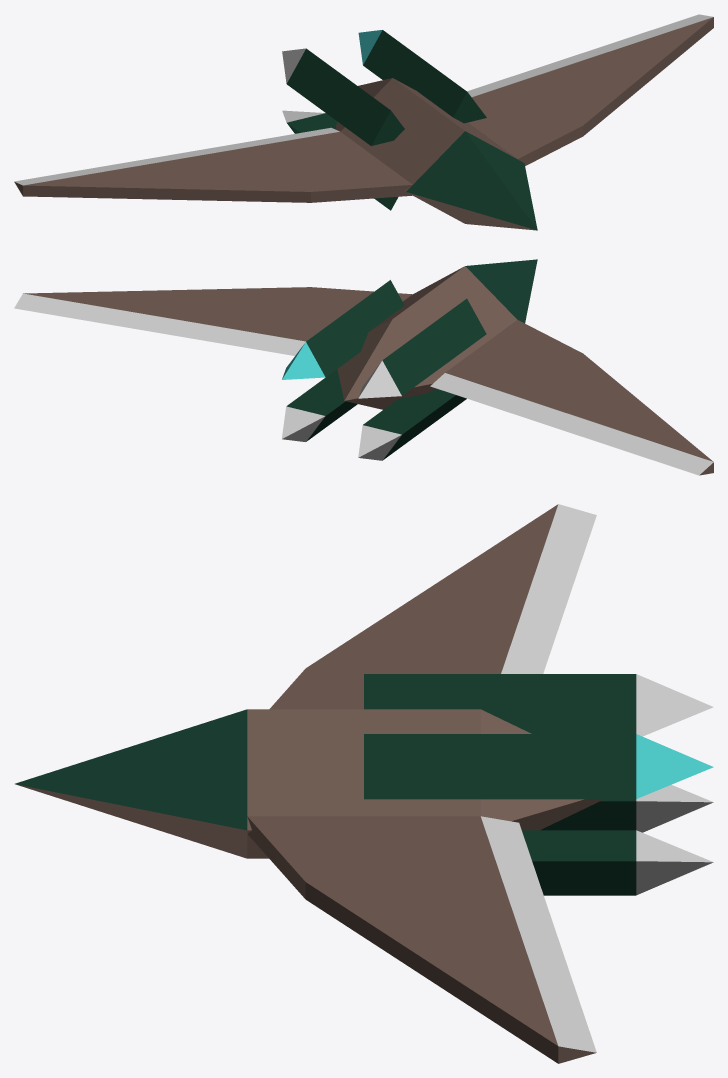
The model's file is playership.fbx.
3 views of the same model, one above another, from view 1: azimuth 30°, elevation 25°; view 2: azimuth 150°, elevation 25°; view 3: azimuth 270°, elevation 25° (orthographic). The views are drawn at different scales.
Parts seen in each view (by area): view 1: PlayerShip; view 2: PlayerShip; view 3: PlayerShip.
Part boxes in pixels (<box>): PlayerShip: <box>14,14,713,230</box>; PlayerShip: <box>14,259,713,475</box>; PlayerShip: <box>15,504,713,1063</box>.
Size of the model in its own units: 16.5 by 2.29 by 9.
